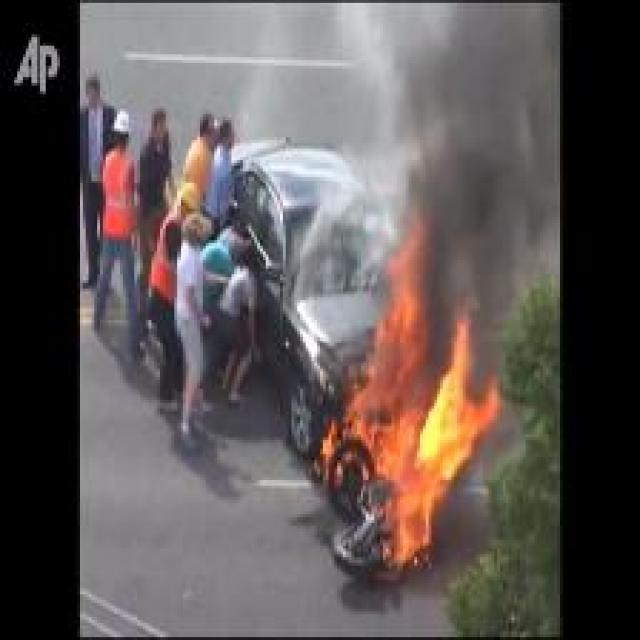Fire: (320, 216, 500, 578)
